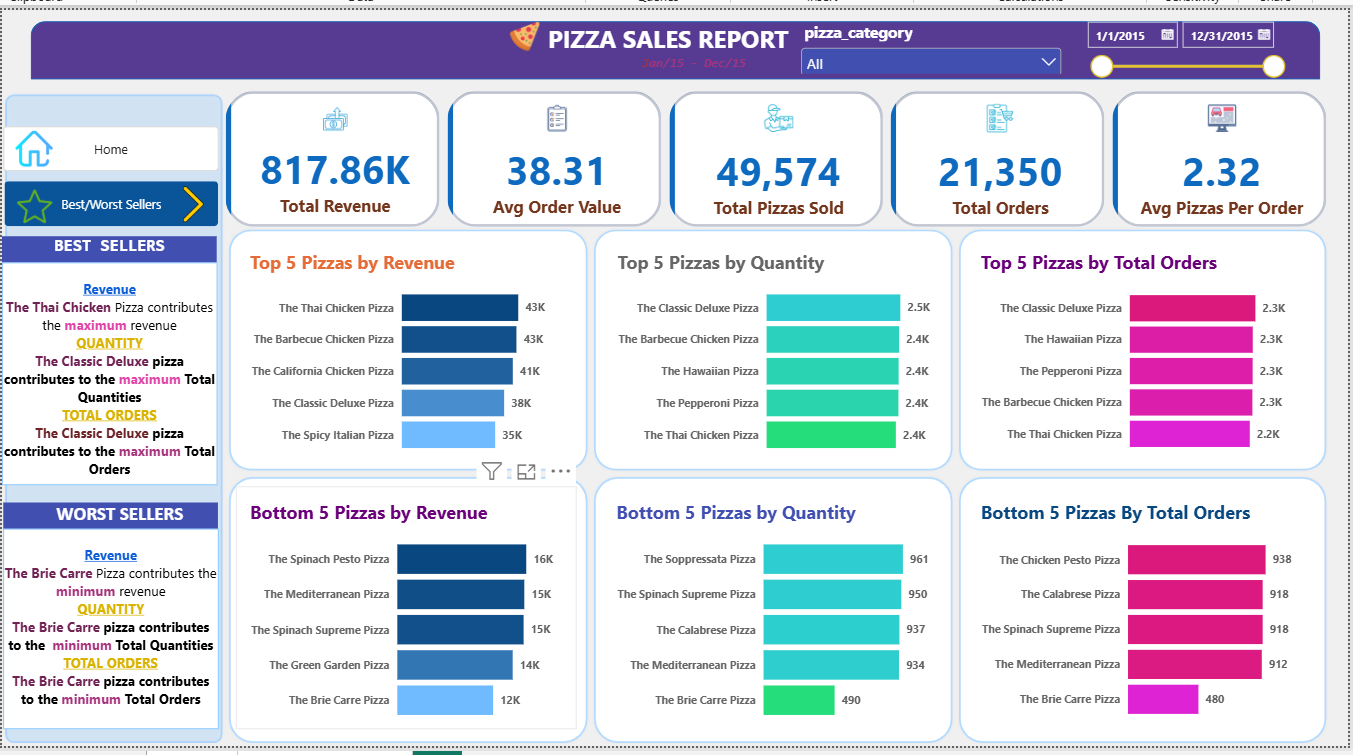

This screenshot's page, from the dashboard's own definition file:
{"tool":"powerbi","page":{"name":"Best/Worst Sellers","canvas":[1500,820],"ordinal":1},"visuals":[{"type":"cardVisual","fields":{"Data":["pizza_sales.Total Revenue","pizza_sales.Avg Order Value","pizza_sales.Total Pizzas Sold","pizza_sales.Total Orders","pizza_sales.Avg Pizzas Per Order"]},"box":[249.3,90.1,1230,151],"z":0},{"type":"shape","box":[32.4,12.7,1436.6,64.8],"z":1000},{"type":"textbox","box":[561.2,13.9,362,62],"z":2000},{"type":"textbox","box":[701.4,49.3,138,25.4],"z":3000},{"type":"image","box":[561.2,12.5,42.3,33.8],"z":4000},{"type":"shape","box":[249.3,240.9,406.7,275.7],"z":5000},{"type":"shape","box":[655.9,240.9,406.7,275.7],"z":6000},{"type":"shape","box":[655.9,516.7,406.7,303.6],"z":7000},{"type":"shape","box":[249.3,516.7,406.7,303.6],"z":8000},{"type":"shape","box":[1062.6,516.7,416.4,303.6],"z":9000},{"type":"shape","box":[0,90.5,249.3,729.8],"z":10000},{"type":"textbox","box":[0,251.7,239.5,29.2],"z":11000},{"type":"textbox","box":[0,281.7,240,248.3],"z":12000},{"type":"textbox","box":[1.7,548.3,239.5,30.6],"z":13000},{"type":"textbox","box":[1.7,578.3,240,223.3],"z":14000},{"type":"slicer","fields":{"Values":["pizza_sales.pizza_category"]},"box":[885.7,12.5,299.4,58.5],"z":15000},{"type":"slicer","fields":{"Values":["pizza_sales.order_date"]},"box":[1201.9,8.4,231.2,75.2],"z":16000},{"type":"shape","box":[1062.6,240.9,416.4,275.7],"z":17000},{"type":"barChart","title":"Top 5 Pizzas by Revenue","fields":{"Category":["pizza_sales.pizza_name"],"Y":["pizza_sales.Total Revenue"]},"box":[261,252.4,380.2,252.4],"z":18000},{"type":"barChart","title":"Bottom 5 Pizzas by Revenue","fields":{"Category":["pizza_sales.pizza_name"],"Y":["pizza_sales.Total Revenue"]},"box":[260.3,530.1,380.2,271.4],"z":19000},{"type":"barChart","title":"Top 5 Pizzas by Quantity","fields":{"Category":["pizza_sales.pizza_name"],"Y":["pizza_sales.Total Pizzas Sold"]},"box":[670.5,252.4,380.2,252.4],"z":20000},{"type":"barChart","title":"Bottom 5 Pizzas by Quantity","fields":{"Category":["pizza_sales.pizza_name"],"Y":["pizza_sales.Total Pizzas Sold"]},"box":[668.9,530.1,380.2,271.4],"z":21000},{"type":"barChart","title":"Top 5 Pizzas by Total Orders","fields":{"Category":["pizza_sales.pizza_name"],"Y":["pizza_sales.Total Orders"]},"box":[1074.4,252.4,380.2,252.4],"z":22000},{"type":"barChart","title":"Bottom 5 Pizzas By Total Orders","fields":{"Category":["pizza_sales.pizza_name"],"Y":["pizza_sales.Total Orders"]},"box":[1074.4,530.1,380.2,271.4],"z":23000},{"type":"pageNavigator","box":[1.5,129.9,240,50],"z":23001},{"type":"pageNavigator","box":[3,191,238.8,50.7],"z":23002},{"type":"image","box":[97,197,231.3,40.3],"z":23003},{"type":"image","box":[7.5,134.3,58.2,41.8],"z":23004},{"type":"image","box":[0,198.5,73.1,38.8],"z":23005}]}

Visuals, with their boxes on the page's 1500x820 design canvas (x1, y1, x2, y2). These are canvas units, not pixel positions in the 1353x755 screenshot, which may show the page scaled, cropped or inside an application window:
cardVisual - pizza_sales.Total Revenue x pizza_sales.Avg Order Value: crop(249, 90, 1479, 241)
shape: crop(32, 13, 1469, 78)
textbox: crop(561, 14, 923, 76)
textbox: crop(701, 49, 839, 75)
image: crop(561, 12, 604, 46)
shape: crop(249, 241, 656, 517)
shape: crop(656, 241, 1063, 517)
shape: crop(656, 517, 1063, 820)
shape: crop(249, 517, 656, 820)
shape: crop(1063, 517, 1479, 820)
shape: crop(0, 90, 249, 820)
textbox: crop(0, 252, 240, 281)
textbox: crop(0, 282, 240, 530)
textbox: crop(2, 548, 241, 579)
textbox: crop(2, 578, 242, 802)
slicer - pizza_sales.pizza_category: crop(886, 12, 1185, 71)
slicer - pizza_sales.order_date: crop(1202, 8, 1433, 84)
shape: crop(1063, 241, 1479, 517)
"Top 5 Pizzas by Revenue" barChart: crop(261, 252, 641, 505)
"Bottom 5 Pizzas by Revenue" barChart: crop(260, 530, 640, 802)
"Top 5 Pizzas by Quantity" barChart: crop(670, 252, 1051, 505)
"Bottom 5 Pizzas by Quantity" barChart: crop(669, 530, 1049, 802)
"Top 5 Pizzas by Total Orders" barChart: crop(1074, 252, 1455, 505)
"Bottom 5 Pizzas By Total Orders" barChart: crop(1074, 530, 1455, 802)
pageNavigator: crop(2, 130, 242, 180)
pageNavigator: crop(3, 191, 242, 242)
image: crop(97, 197, 328, 237)
image: crop(8, 134, 66, 176)
image: crop(0, 198, 73, 237)
